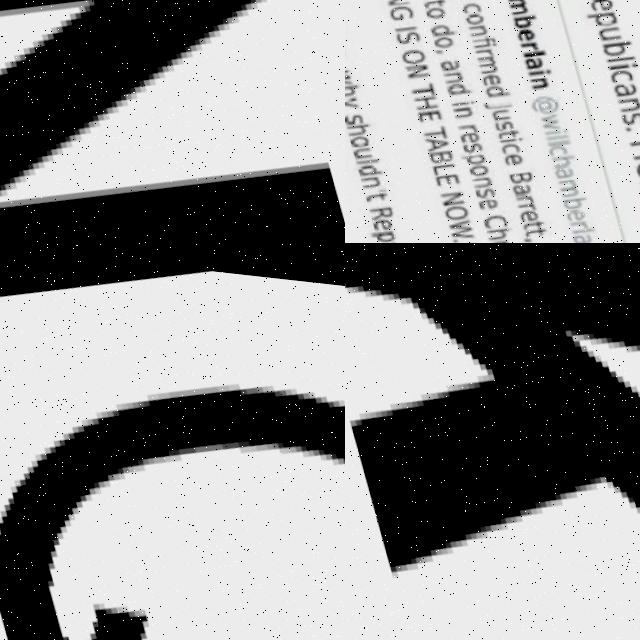A: (608, 68, 637, 88), (422, 125, 448, 146), (519, 44, 544, 63), (506, 172, 531, 189), (436, 48, 460, 65), (551, 154, 572, 170), (568, 220, 590, 235)
B: (600, 24, 635, 48), (510, 2, 537, 22), (503, 159, 530, 176), (425, 141, 450, 158), (559, 185, 584, 201)
C: (478, 203, 506, 224), (607, 54, 632, 73), (544, 132, 565, 148), (496, 132, 518, 147), (459, 0, 480, 7)
D: (480, 73, 509, 91), (429, 13, 456, 31), (443, 72, 470, 89), (354, 155, 380, 172)
E: (471, 184, 497, 206), (430, 163, 457, 181), (513, 198, 538, 217), (512, 15, 535, 35), (414, 100, 440, 117), (476, 62, 501, 79), (498, 141, 522, 158), (367, 211, 391, 227), (457, 122, 480, 138), (561, 196, 582, 212)
F: (468, 24, 494, 37), (626, 125, 640, 143)
G: (385, 0, 413, 16), (631, 143, 640, 170)
H: (482, 216, 511, 234), (410, 87, 437, 106), (345, 115, 370, 133), (547, 143, 573, 160), (345, 76, 359, 92)
I: (605, 47, 636, 61), (526, 56, 551, 69), (495, 124, 520, 137), (572, 230, 598, 242), (449, 89, 475, 101), (540, 116, 564, 127), (471, 31, 495, 42), (392, 17, 415, 27), (630, 137, 640, 150)
J: (480, 88, 511, 103)
K: (345, 243, 640, 640)
L: (429, 153, 454, 170), (604, 41, 634, 53), (519, 37, 545, 50), (566, 215, 591, 226), (353, 151, 377, 162), (541, 122, 567, 132), (543, 127, 567, 136)
M: (552, 166, 576, 190), (474, 46, 497, 68), (506, 0, 528, 7)
N: (0, 0, 345, 243), (400, 54, 428, 75), (614, 81, 640, 102), (436, 182, 462, 200), (355, 167, 379, 184), (528, 64, 548, 82), (441, 61, 463, 77), (466, 15, 487, 31), (451, 97, 472, 113), (468, 166, 489, 180), (572, 239, 592, 243)
O: (439, 194, 466, 216), (397, 39, 425, 60), (431, 26, 453, 44), (462, 3, 484, 19), (345, 128, 367, 144), (465, 154, 486, 170), (423, 0, 446, 13)
P: (583, 0, 618, 19), (365, 222, 393, 239), (457, 142, 483, 160)
Q: (0, 287, 345, 640)
R: (365, 197, 392, 217), (517, 30, 538, 45), (513, 190, 534, 205), (455, 114, 476, 126), (511, 184, 531, 196), (472, 38, 492, 50), (565, 209, 584, 221)
S: (616, 96, 640, 116), (457, 131, 482, 148), (394, 23, 419, 40), (471, 177, 494, 192), (490, 109, 512, 124), (345, 106, 361, 120)
T: (417, 114, 445, 136), (406, 73, 434, 94), (359, 183, 385, 199), (493, 117, 518, 133), (518, 217, 544, 230), (518, 208, 541, 221)
U: (595, 12, 621, 33), (486, 97, 511, 114), (349, 140, 370, 156), (485, 229, 507, 243), (372, 234, 397, 243)
W: (443, 209, 471, 235), (537, 101, 560, 123), (523, 235, 549, 243), (345, 60, 350, 82)
Y: (345, 89, 356, 107)
